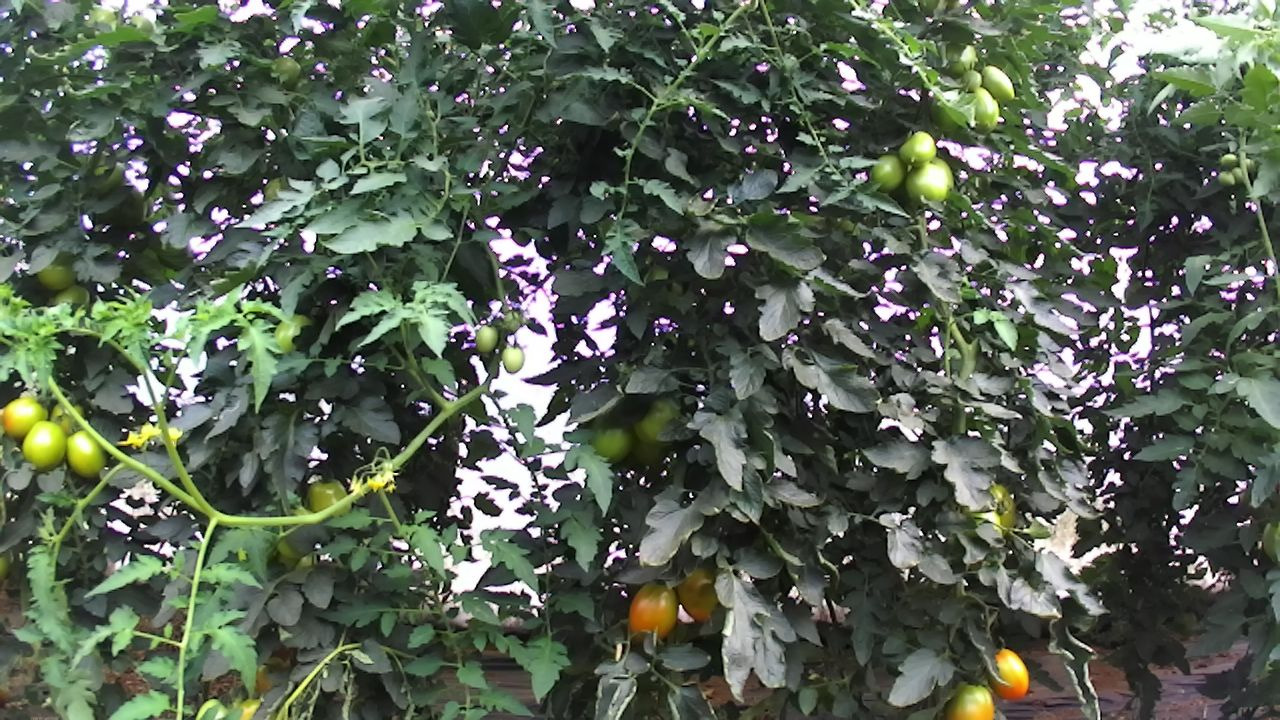tomato: (675, 563, 727, 630), (627, 580, 679, 647), (19, 417, 69, 474), (902, 155, 955, 208), (983, 643, 1031, 701), (940, 675, 998, 720), (63, 426, 110, 481), (1, 393, 50, 442), (594, 422, 634, 469), (867, 151, 909, 194), (968, 86, 1002, 137), (979, 62, 1016, 105), (897, 129, 937, 168), (499, 343, 525, 375), (474, 322, 499, 354)
